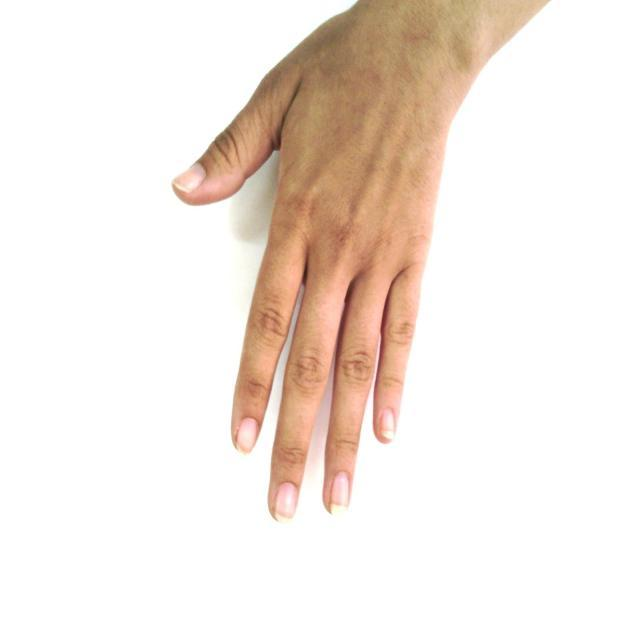Fingernail: (276, 484, 299, 524), (174, 164, 204, 192), (331, 472, 349, 516), (237, 419, 257, 453), (381, 409, 395, 439)
